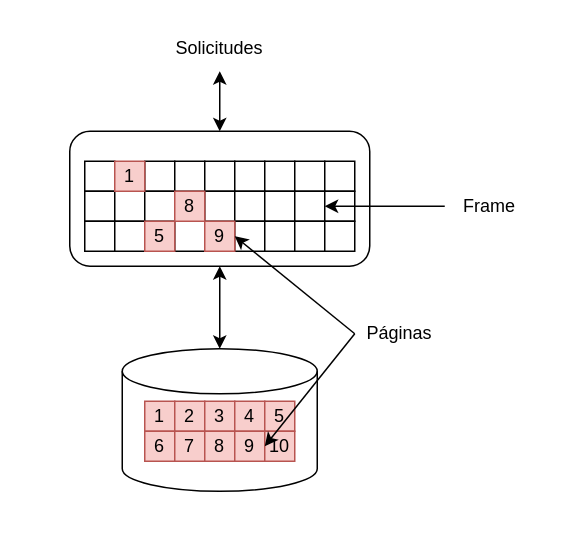
This 561x548 diagram has some shape labels left out. Each missing label, with the box of its shape:
Disco: (121, 347, 317, 491)
RAM: (68, 130, 370, 266)
